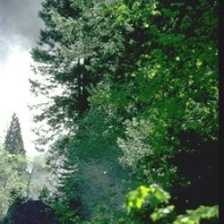neutral: (1, 2, 220, 224)
